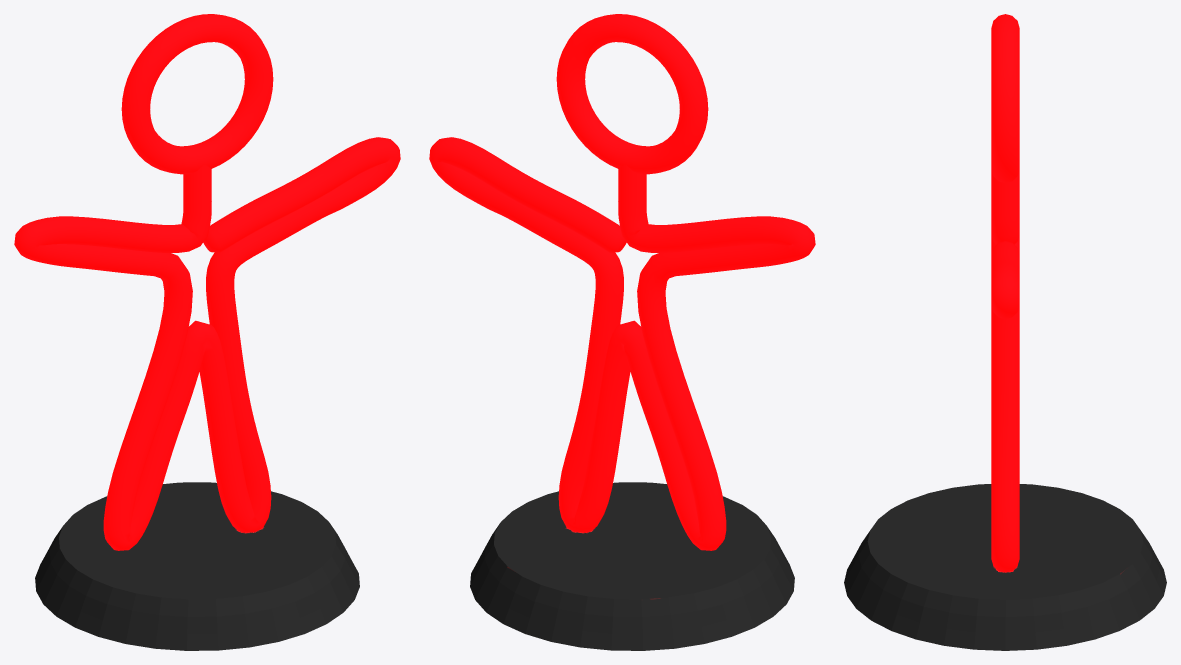
File: GlowingStickmanRed.fbx
The picture shows the model from 3 angles, left to right: view 1: azimuth 30°, elevation 25°; view 2: azimuth 150°, elevation 25°; view 3: azimuth 270°, elevation 25°; orthographic projection.
Visible parts, largest first — view 1: GlowingStickmanRedBaked; view 2: GlowingStickmanRedBaked; view 3: GlowingStickmanRedBaked.
Part boxes in pixels (box(x1,y1,x2,y2)): GlowingStickmanRedBaked: box(14, 14, 400, 650); GlowingStickmanRedBaked: box(429, 14, 815, 650); GlowingStickmanRedBaked: box(844, 14, 1166, 650).
Bounding box in the file's own units: 69.79 × 98.61 × 51.46.
